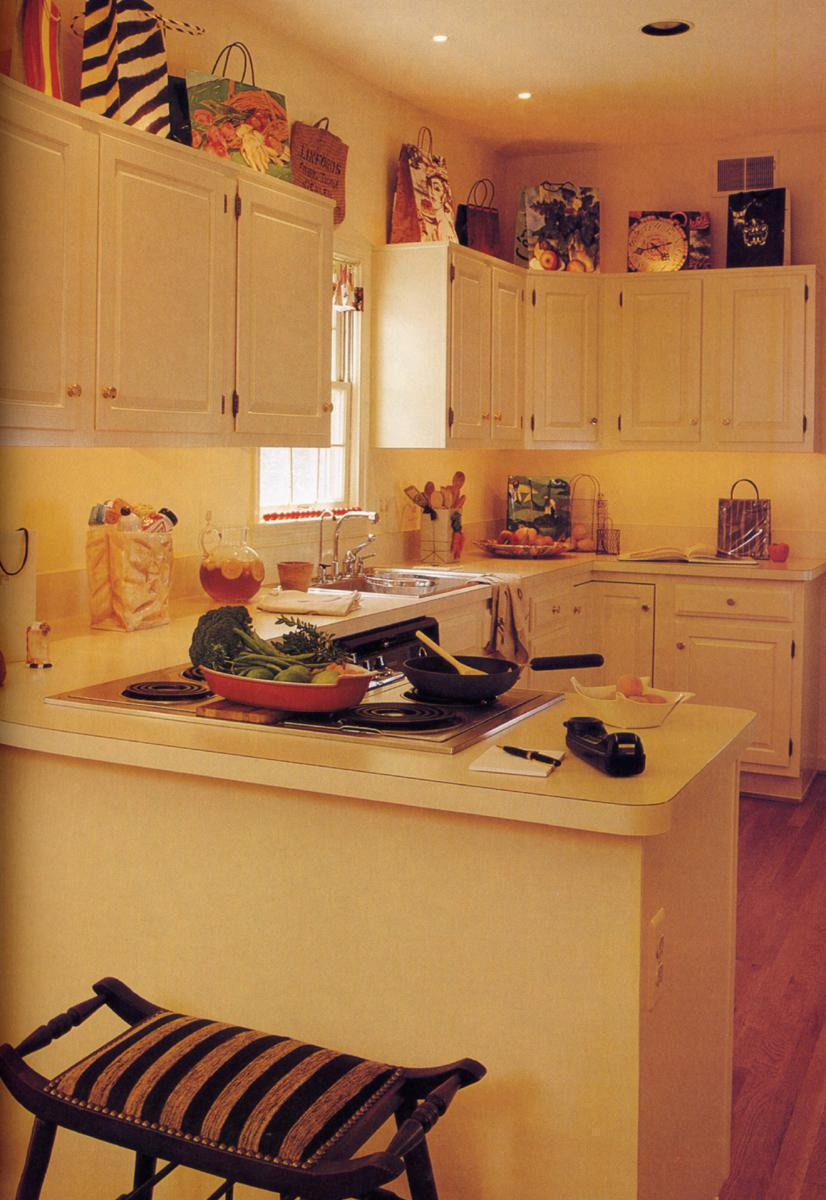Lavaplatos: (309, 501, 482, 610)
